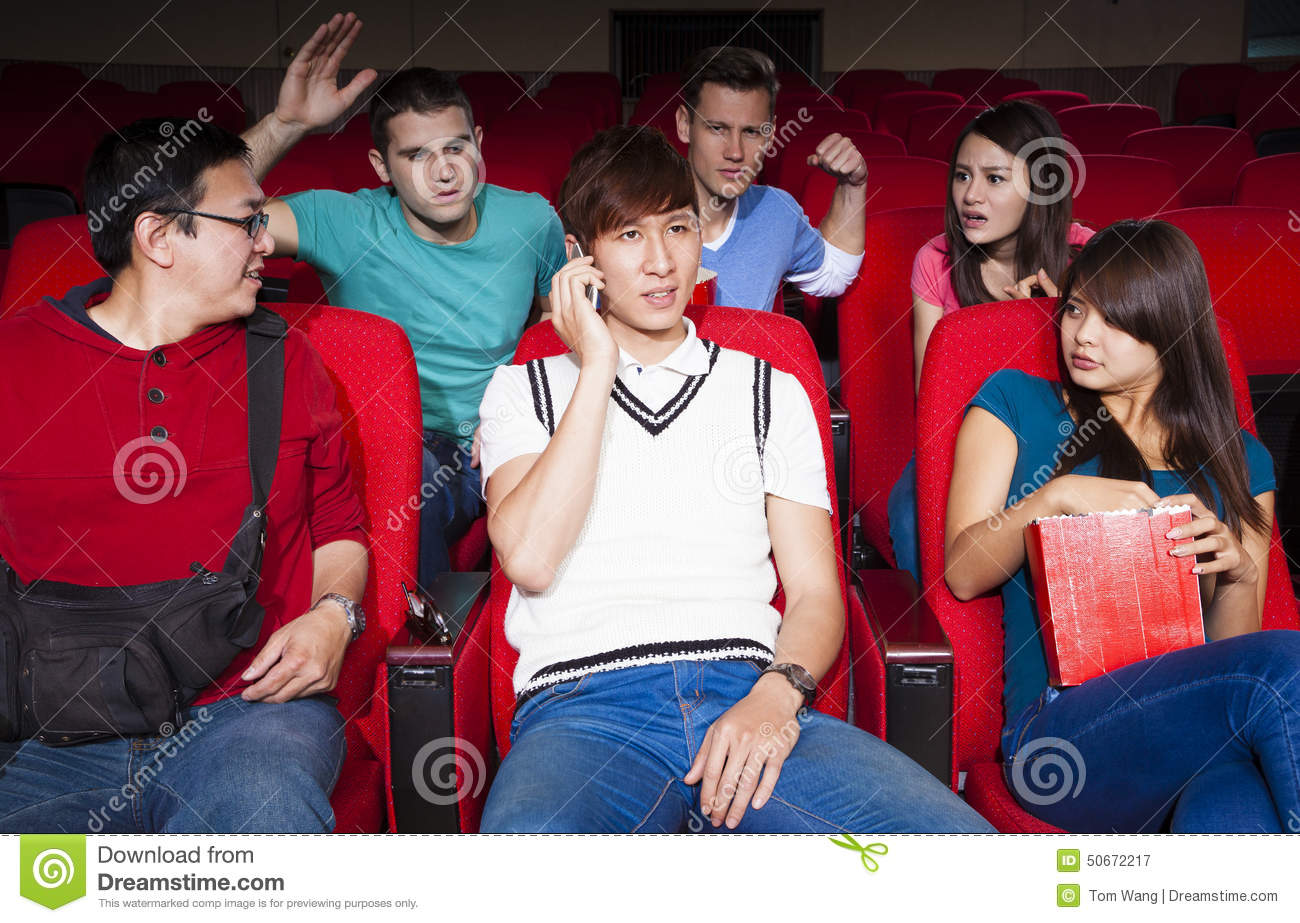phone: (567, 239, 599, 317)
talk: (548, 207, 699, 359)
